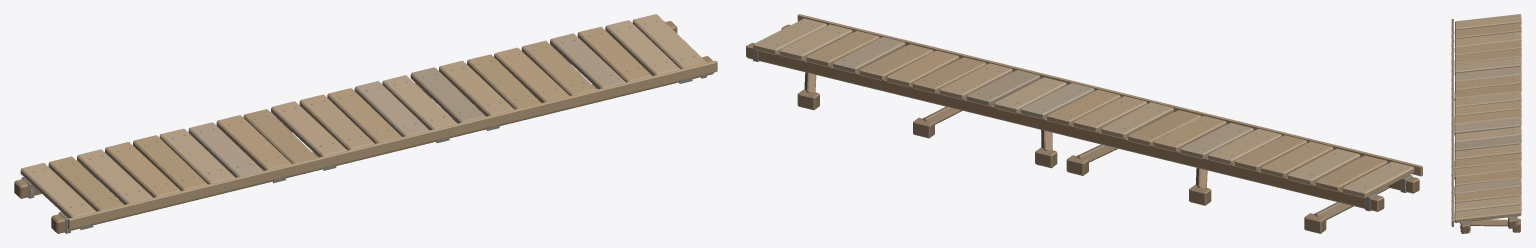
The model's file is platform_bracket_700.glb.
3 renders of one model, left to right at view 1: azimuth 30°, elevation 25°; view 2: azimuth 150°, elevation 25°; view 3: azimuth 270°, elevation 25°, orthographic. The views are drawn at different scales.
Parts seen in each view (by area): view 1: Wood, Iron; view 2: Wood, Iron; view 3: Wood, Iron.
Boxes of the visible parts, x1,y1,x2,y2 form: Wood: (14, 14, 717, 233); Iron: (21, 20, 706, 233); Wood: (746, 14, 1422, 233); Iron: (753, 22, 1412, 211); Wood: (1451, 14, 1521, 233); Iron: (1451, 16, 1517, 231).
Size of the model in its own units: 7.2 by 0.5832 by 1.04.
